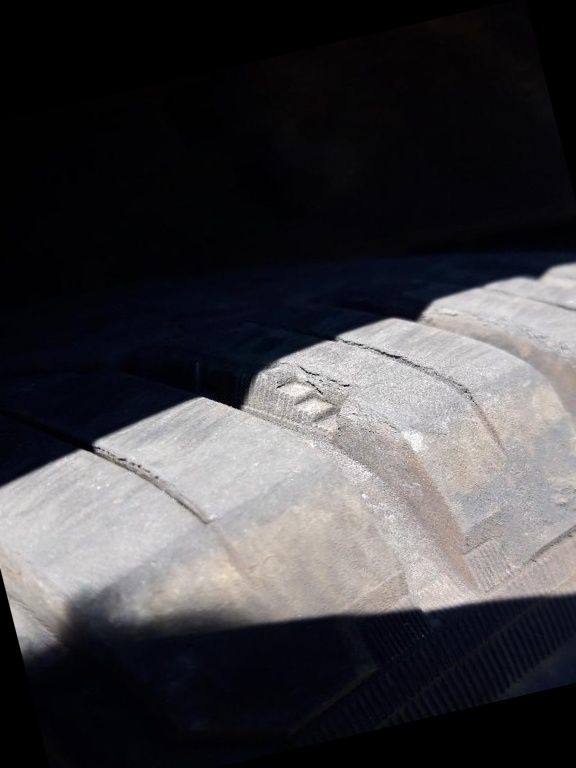temoin:80: (232, 336, 377, 462)
